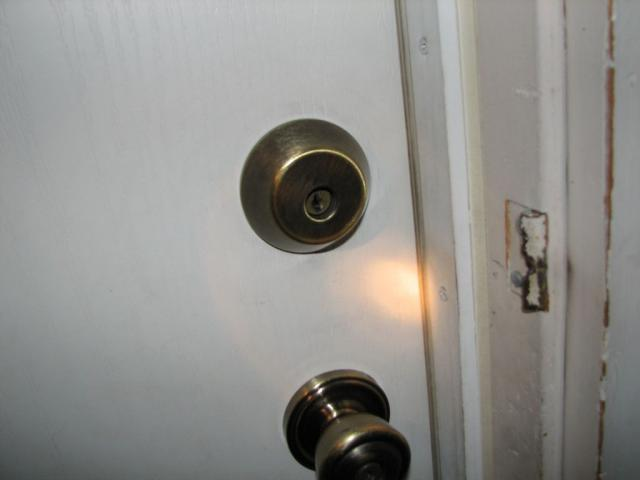Door-handle: (283, 366, 412, 480)
